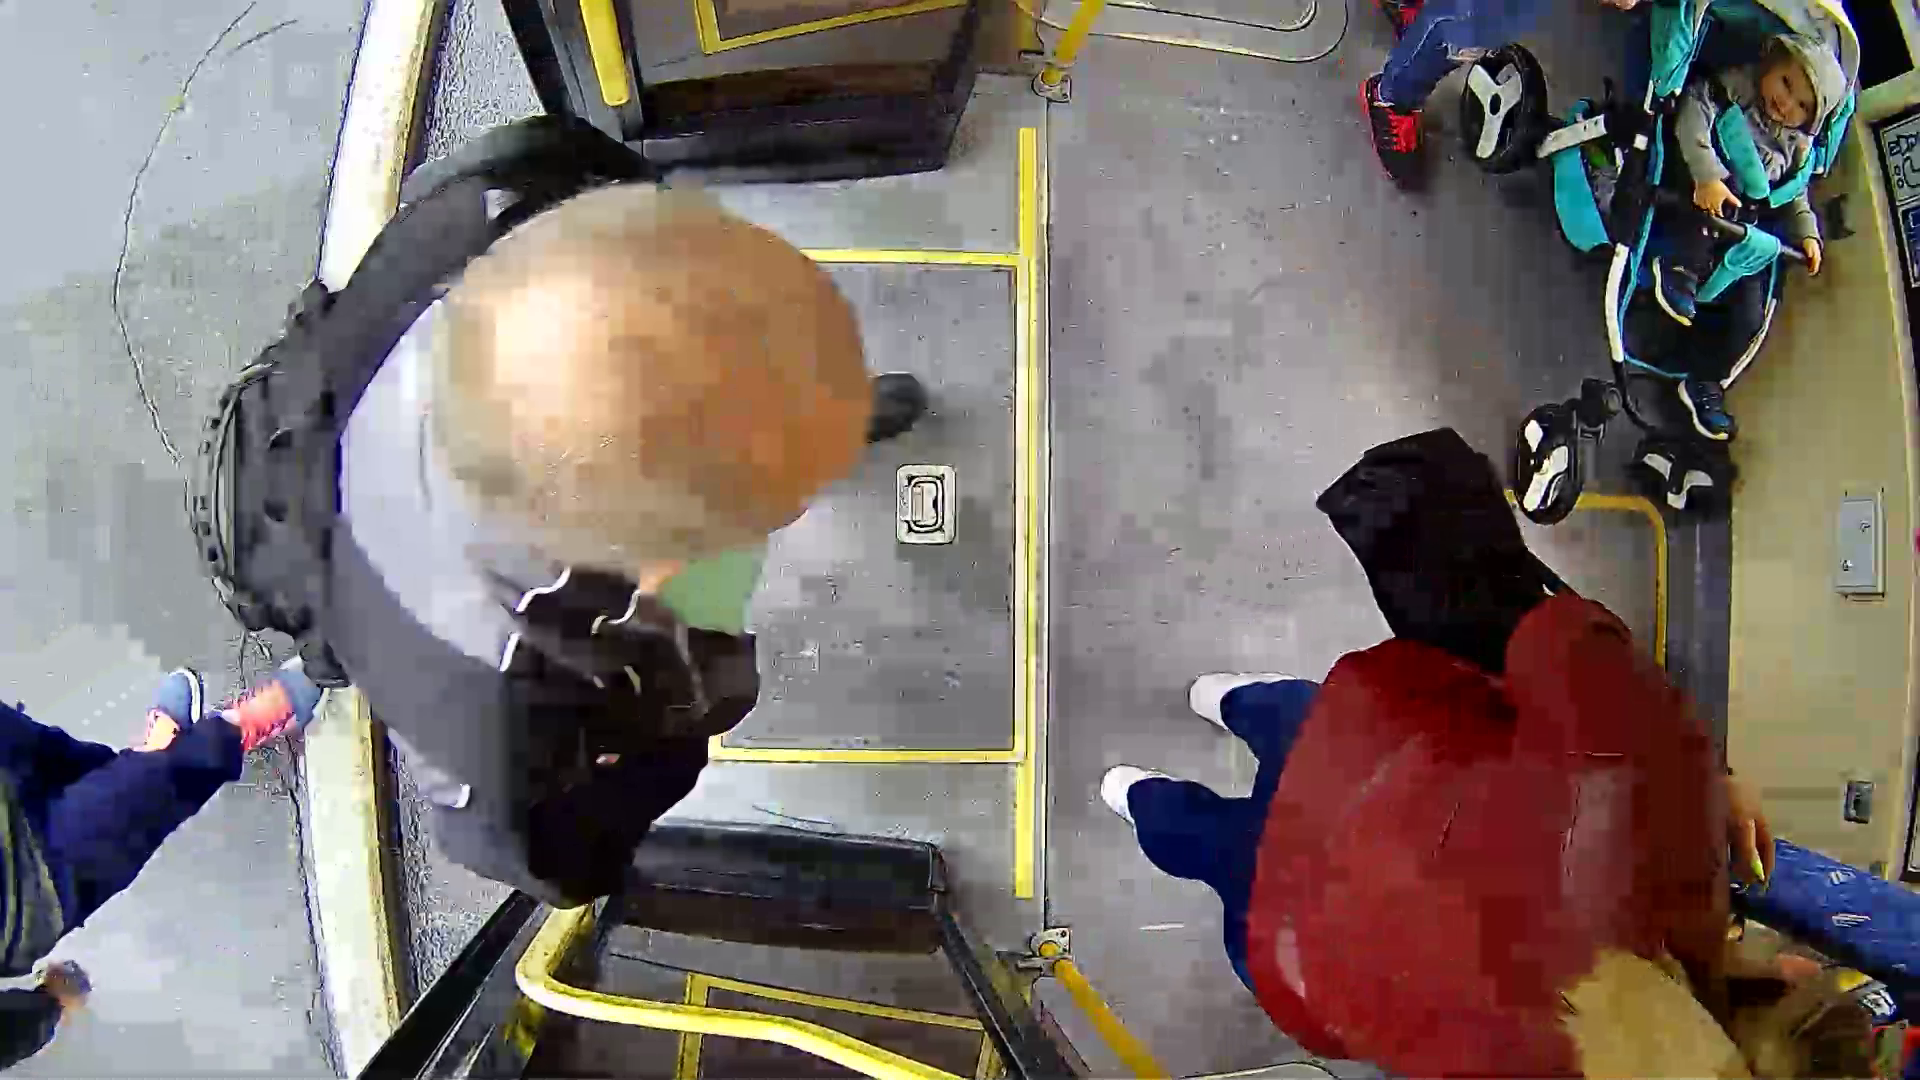person: (224, 145, 939, 824)
